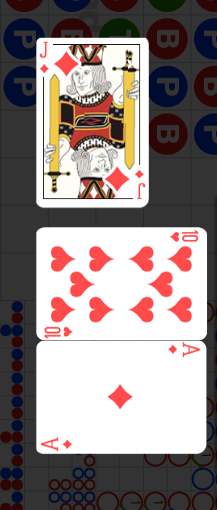10H: (169, 229, 201, 243)
AD: (41, 434, 76, 451)
